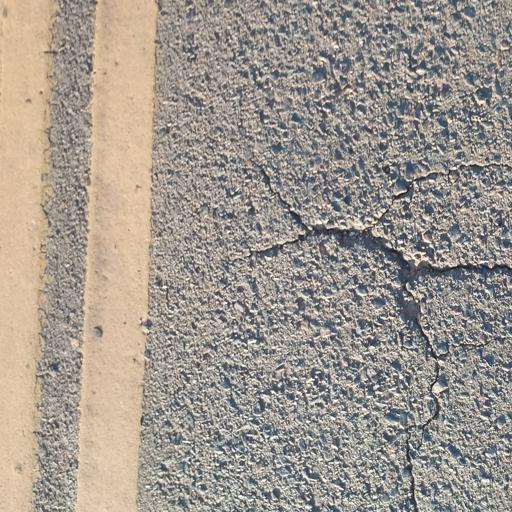GRIETA: (249, 228, 511, 274), (369, 162, 511, 230), (400, 268, 442, 449), (250, 161, 308, 230), (406, 437, 418, 510)
